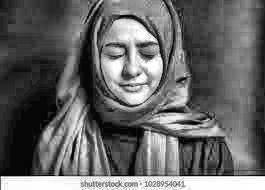sad: (93, 17, 164, 108)
